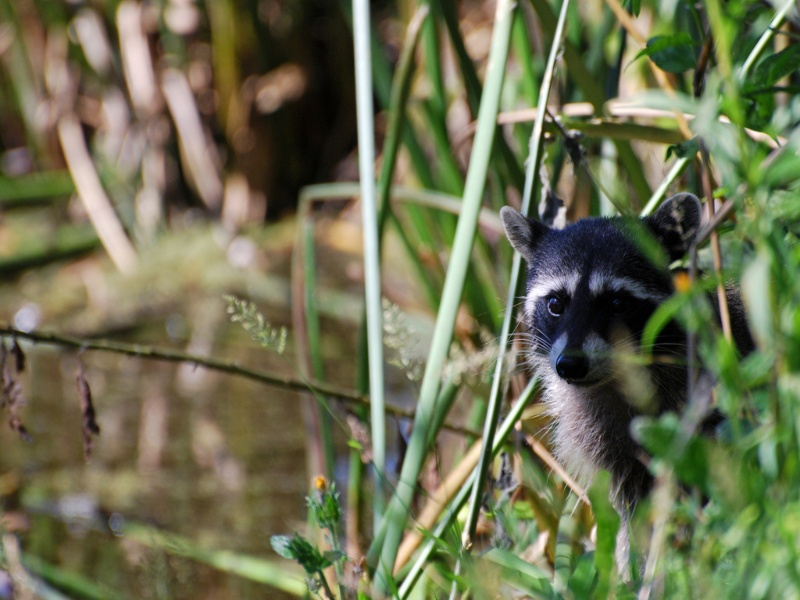raccoon: (497, 192, 733, 525)
